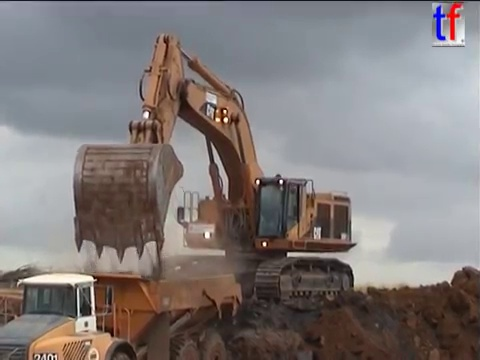excavator: (68, 30, 361, 313)
truck: (1, 266, 247, 360)
